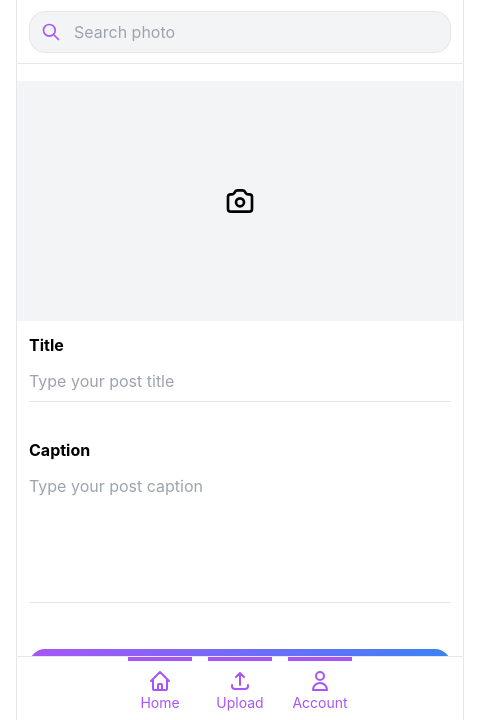
Test: Testing Upload Post › error pada input title
This screenshot has width=481, height=720.
In the field with test id "input-title": (240, 382) 29,361 -> 451,402, type "a"
Then press Backspace
Press Tab
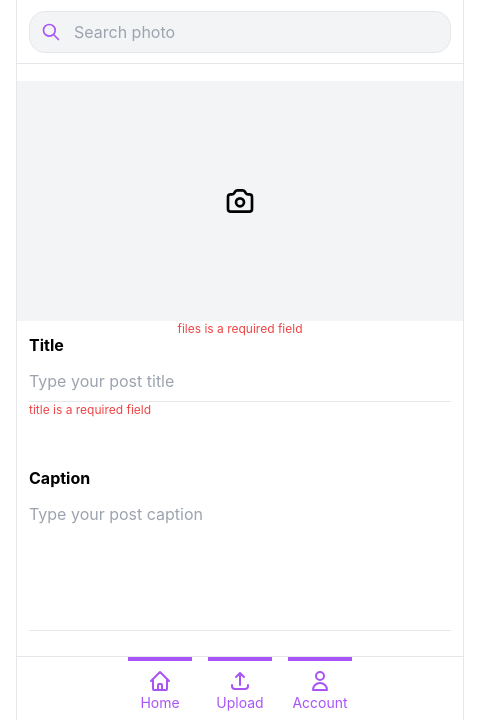
Expected: the text "title is a required field" is shown, 29,402 -> 151,417
